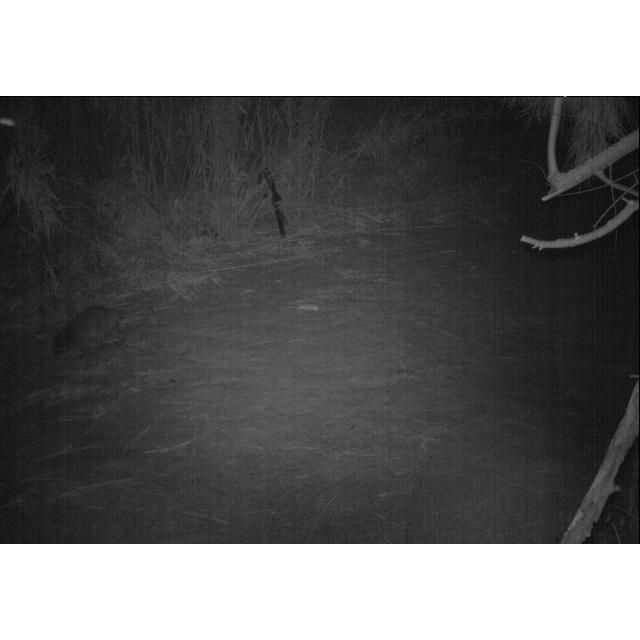animals: (56, 300, 156, 356)
